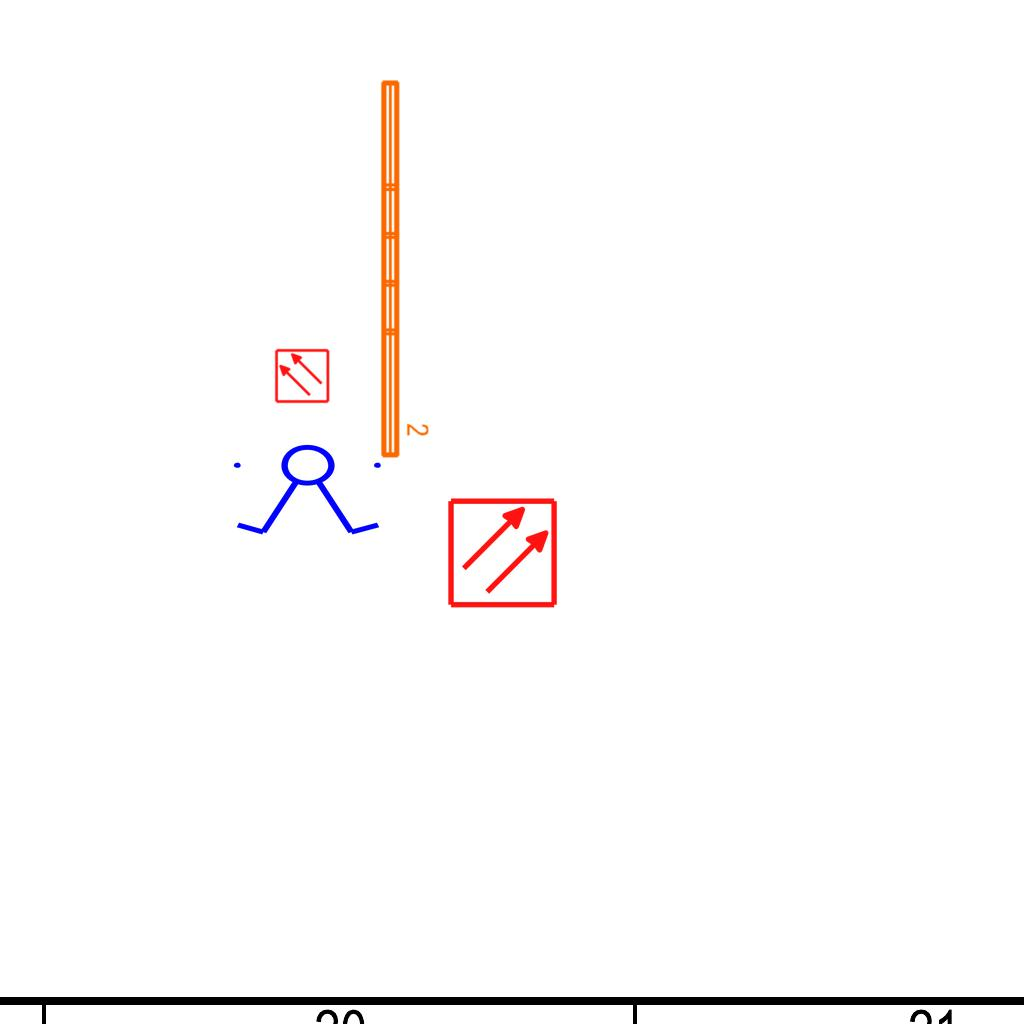Ambulanz_Pendelleuchte_LED: (375, 75, 431, 462)
RMO_Rauchmelder_optischer: (446, 496, 559, 609), (274, 348, 330, 404)
Serienschalter: (225, 443, 393, 539)
